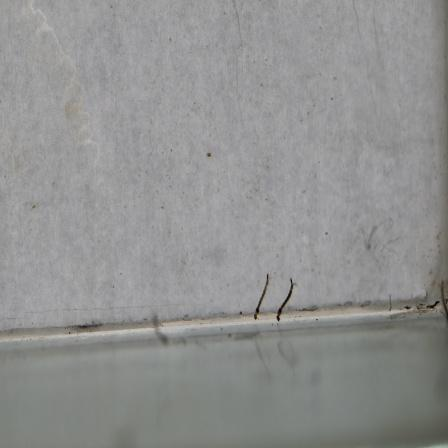Jentik-Nyamuk: (274, 274, 298, 323), (249, 272, 270, 320)
